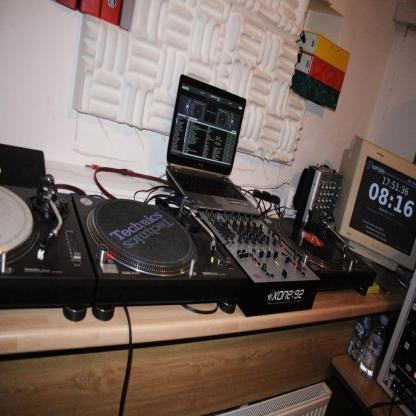board: (166, 74, 261, 217), (361, 313, 388, 377), (349, 314, 372, 362)
